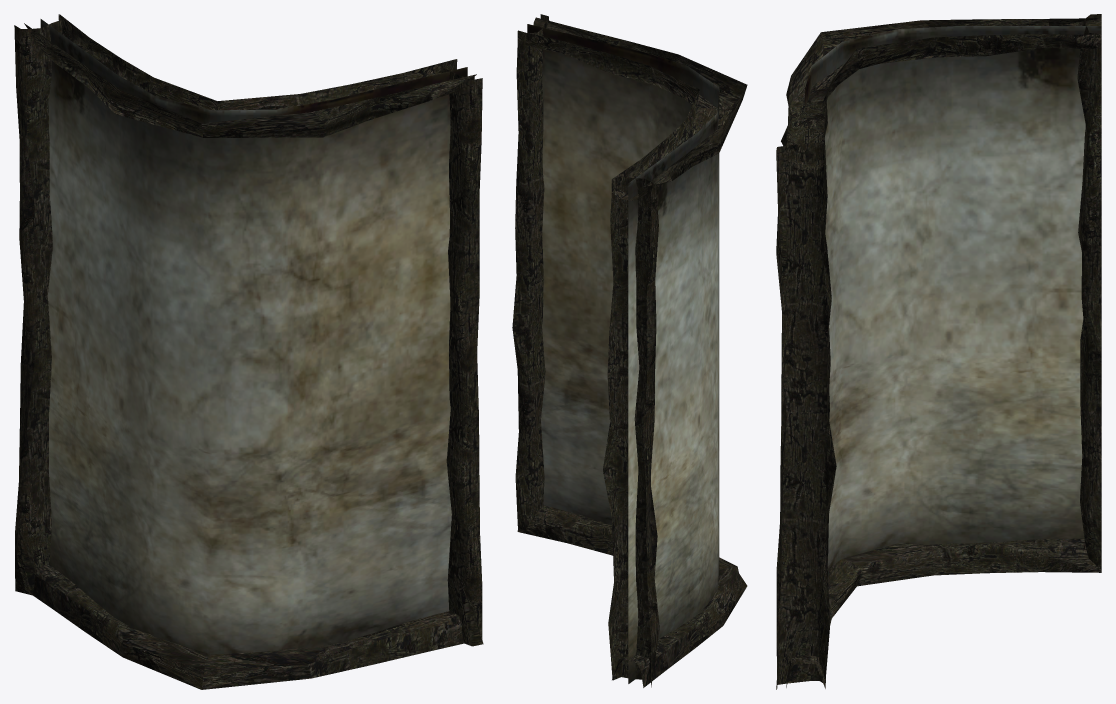
File: corner_convex_round_short_extension.dae
The picture shows the model from 3 angles, left to right: view 1: azimuth 30°, elevation 25°; view 2: azimuth 150°, elevation 25°; view 3: azimuth 270°, elevation 25°; orthographic projection. The views are drawn at different scales.
Parts seen in each view (by area): view 1: pPlane12, polySurface36, polySurface37, polySurface35, polySurface34; view 2: pPlane12, polySurface36, polySurface37, polySurface34, polySurface35; view 3: pPlane12, polySurface37, polySurface34, polySurface36, polySurface35.
Part boxes in pixels (x1,y1,x2,y2): pPlane12: [40, 19, 467, 654]; polySurface36: [14, 14, 62, 595]; polySurface37: [441, 59, 483, 646]; polySurface35: [32, 564, 464, 689]; polySurface34: [24, 14, 476, 137]; pPlane12: [527, 24, 719, 683]; polySurface36: [603, 176, 659, 687]; polySurface37: [512, 14, 549, 530]; polySurface34: [517, 17, 747, 200]; polySurface35: [517, 505, 747, 687]; pPlane12: [805, 26, 1101, 568]; polySurface37: [776, 143, 836, 689]; polySurface34: [781, 18, 1101, 170]; polySurface36: [1077, 14, 1101, 569]; polySurface35: [786, 538, 1101, 688].
Size of the model in its own units: 2.22 by 4 by 2.19.
